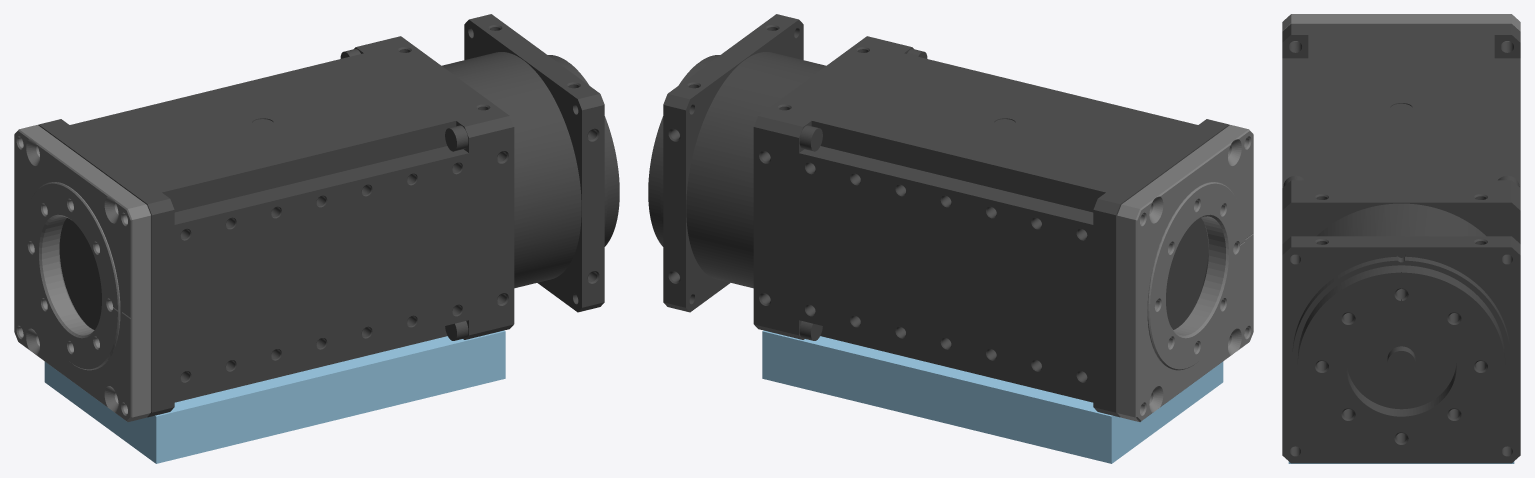
The picture shows the model from 3 angles, left to right: view 1: azimuth 30°, elevation 25°; view 2: azimuth 150°, elevation 25°; view 3: azimuth 270°, elevation 25°; orthographic projection.
Parts seen in each view (by area): view 1: H54-200-S500-R, H54-IDLER, Part 1; view 2: H54-200-S500-R, H54-IDLER, Part 1; view 3: H54-200-S500-R, H54-IDLER.
Part boxes in pixels (left/top/right/bottom): H54-200-S500-R: left=38, top=14, right=619, bottom=417; H54-IDLER: left=14, top=125, right=151, bottom=421; Part 1: left=44, top=330, right=505, bottom=463; H54-200-S500-R: left=648, top=14, right=1229, bottom=417; H54-IDLER: left=1116, top=125, right=1253, bottom=421; Part 1: left=762, top=330, right=1223, bottom=463; H54-200-S500-R: left=1282, top=23, right=1520, bottom=463; H54-IDLER: left=1282, top=14, right=1520, bottom=41.
Bounding box in the file's own units: 0.132 × 0.054 × 0.066.
